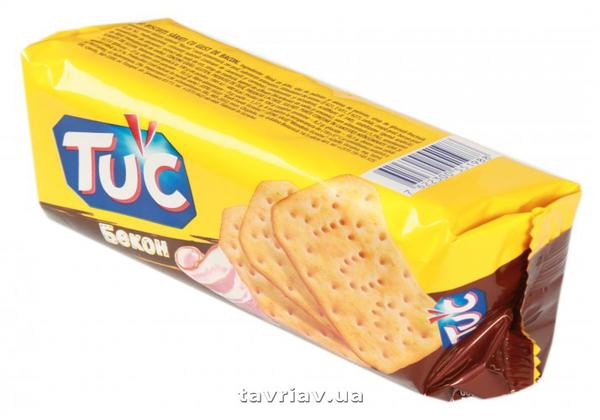crackers tuc: (28, 5, 549, 408)
